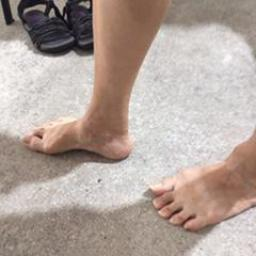Medial View -Right Foot-: (15, 82, 144, 172)
